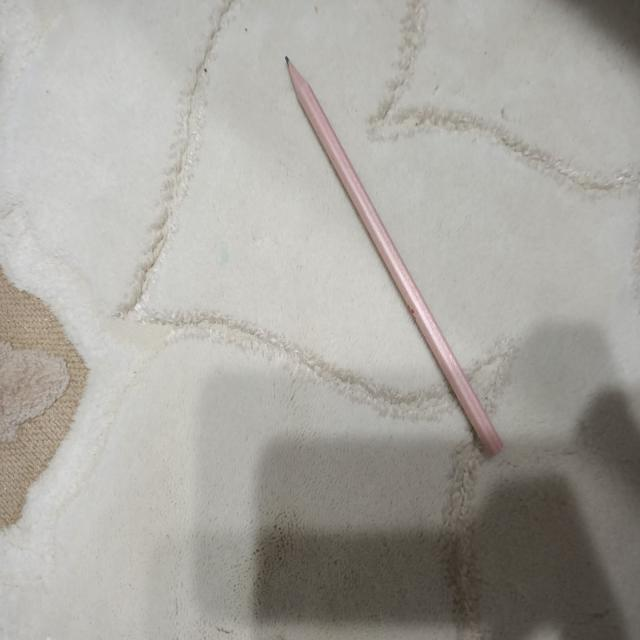pencil: (286, 56, 502, 456)
